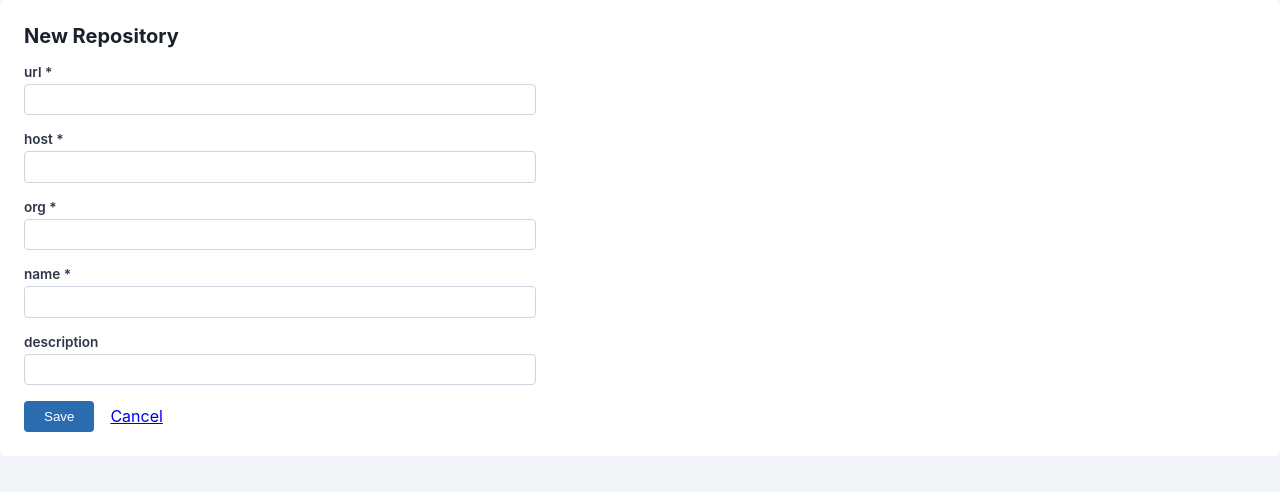
Test case: NodeEditor, registering a repository › previews the key a remote will be stored under, as it is typed
This screenshot has width=1280, height=492.
Type "git@github.com:Acme/Payments.git" into the field with id "field-url" at coordinates (280, 100), box 24,84 -> 536,115
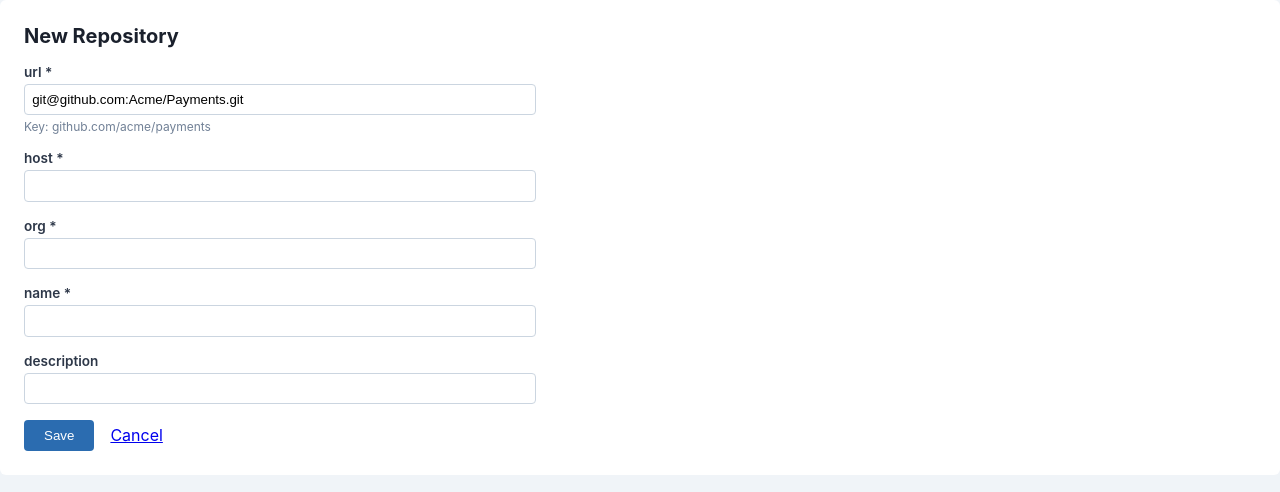
Now the text with test id "remote-key" shows "github.com/acme/payments", box 24,119 -> 211,134
